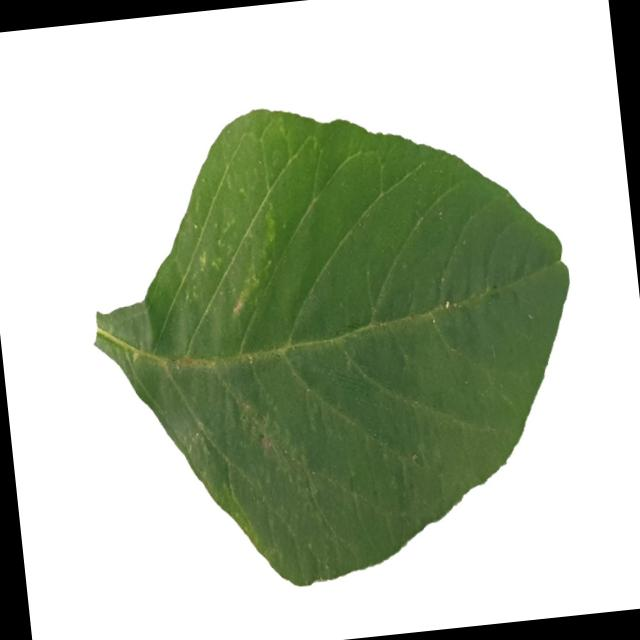Medicinal-Arive Dantu: (75, 75, 600, 609)
